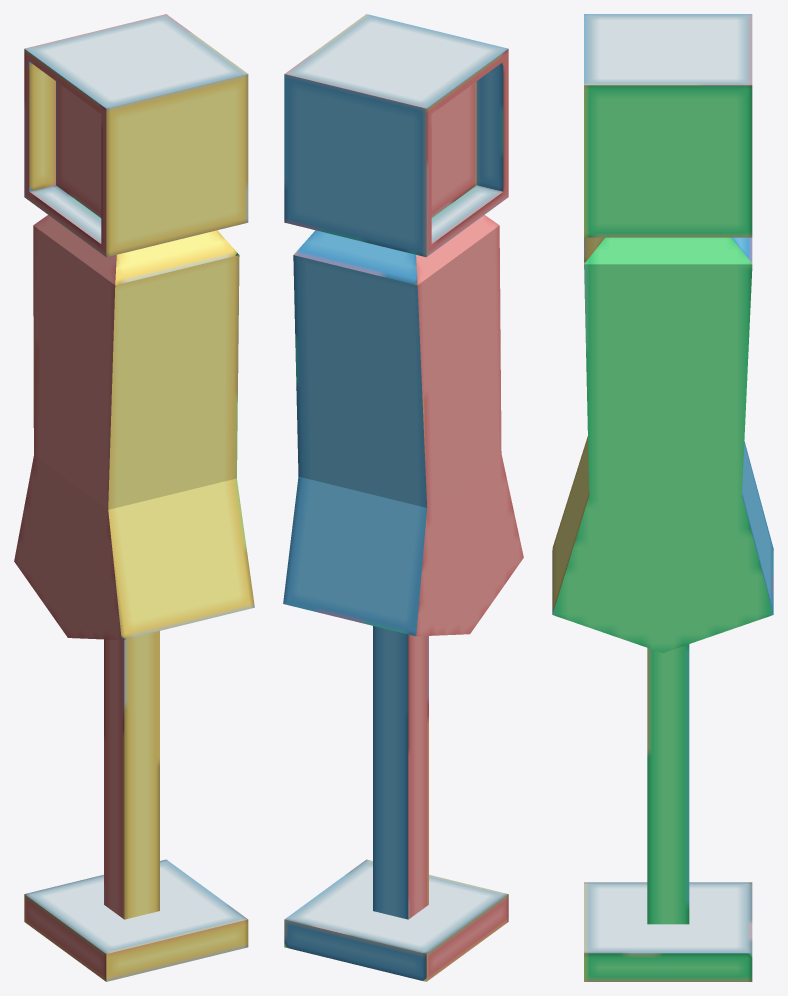
Rendered from Shop Keeper.obj.
3 renders of one model, left to right at view 1: azimuth 30°, elevation 25°; view 2: azimuth 150°, elevation 25°; view 3: azimuth 270°, elevation 25°, orthographic. The views are drawn at different scales.
Visible parts, largest first — view 1: Torso, Head, cuboid; view 2: Torso, Head, cuboid; view 3: Torso, Head, cuboid.
Boxes of the visible parts, x1,y1,x2,y2 form: Torso: (14,215,254,640); Head: (24,14,248,257); cuboid: (24,631,248,981); Torso: (283,215,523,636); Head: (284,14,508,257); cuboid: (284,626,508,981); Torso: (552,237,773,652); Head: (584,14,752,237); cuboid: (584,644,752,981).
Size of the model in its own units: 1 by 5.88 by 1.31.
Materials: 1 (1 with a texture image).
